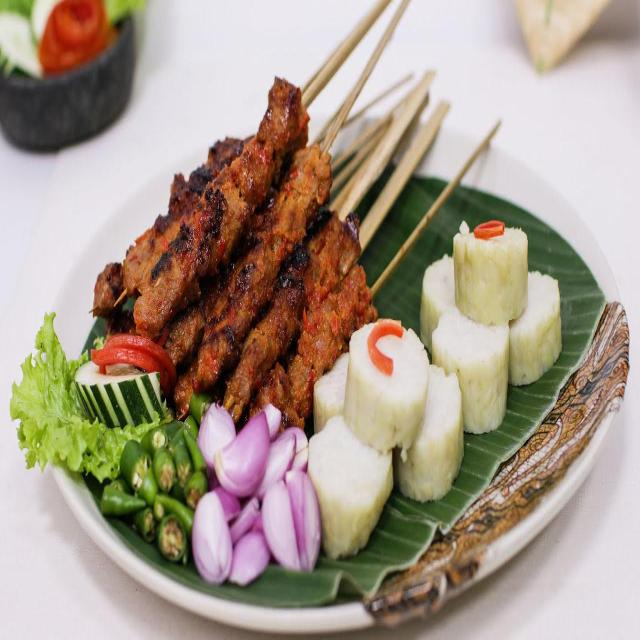Sate: (111, 0, 504, 409)
